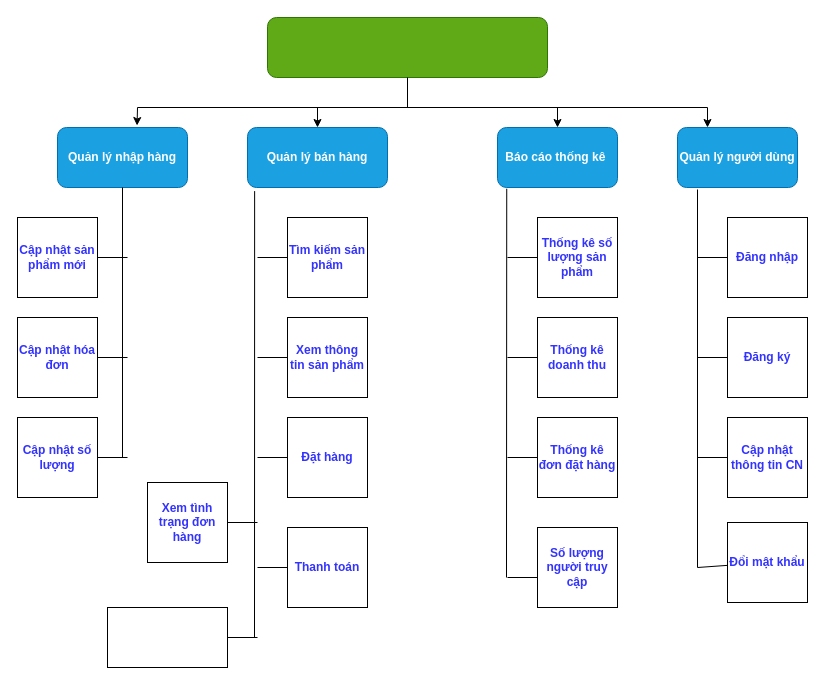
The diagram is 825 pixels wide and 685 high, and some of its shapes have lost their labels. The shapes that lost their labels are listed below. From the top down, each one's centre as x and y in pixels, then its label:
At pixel 407 47: "QUẢN LÝ BÁN HÀNG ONLINE".
At pixel 167 637: "Duyệt chuyển hàng".
